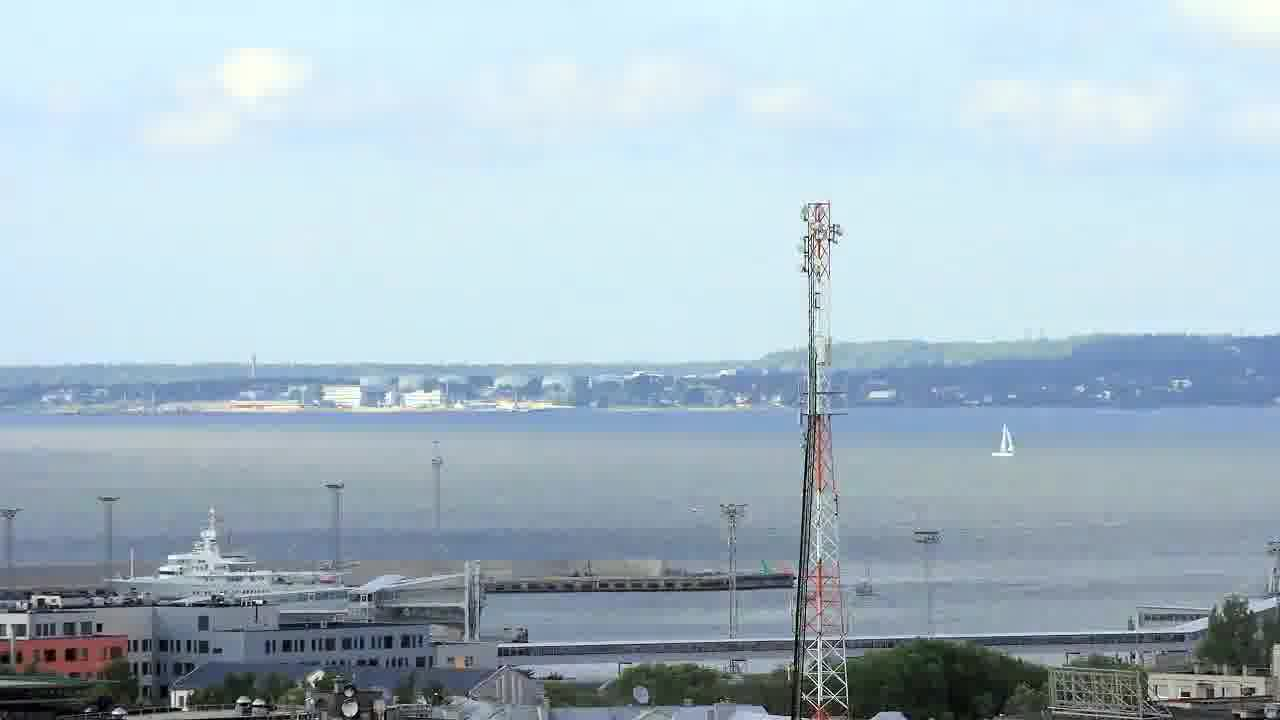type-0: (847, 568, 886, 607)
type-2: (983, 410, 1030, 466)
type-3: (84, 515, 355, 603)
